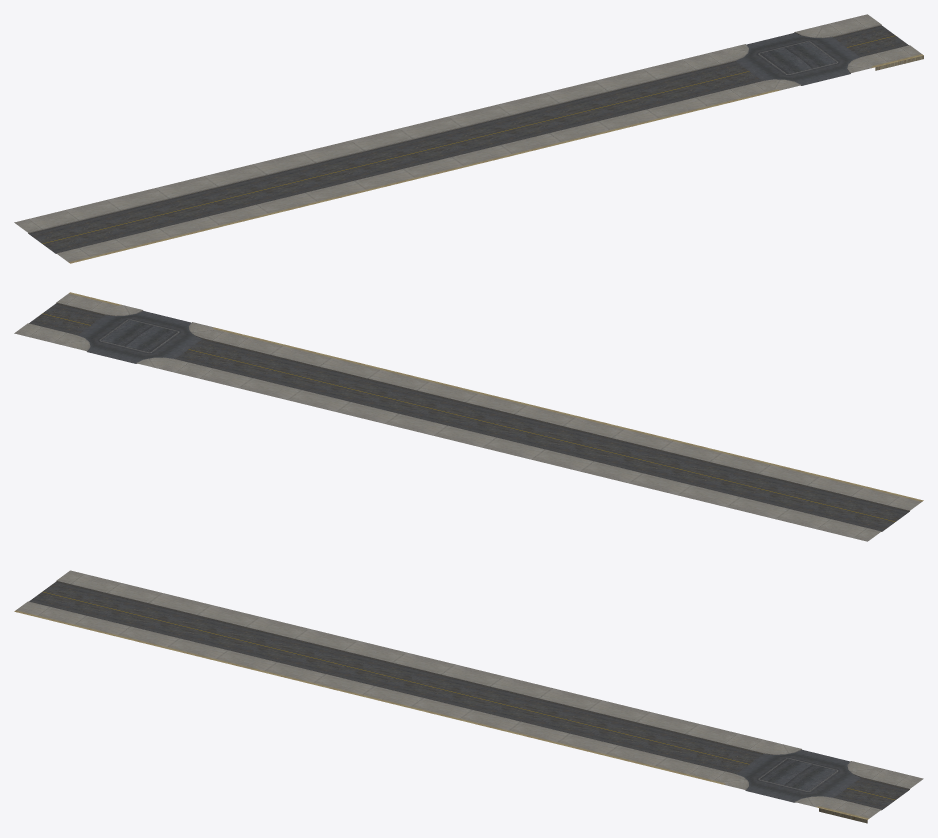
Rendered from vgseedge16.obj.
The picture shows the model from 3 angles, top to bottom: view 1: azimuth 30°, elevation 25°; view 2: azimuth 150°, elevation 25°; view 3: azimuth 330°, elevation 25°; orthographic projection.
Visible parts, largest first — view 1: vgsEedge16; view 2: vgsEedge16; view 3: vgsEedge16.
Part boxes in pixels (x1,y1,x2,y2): vgsEedge16: (14,14,923,263); vgsEedge16: (14,292,923,541); vgsEedge16: (14,570,923,823).
Size of the model in its own units: 175 by 0.9938 by 20.01.
7 materials, 7 textured.
